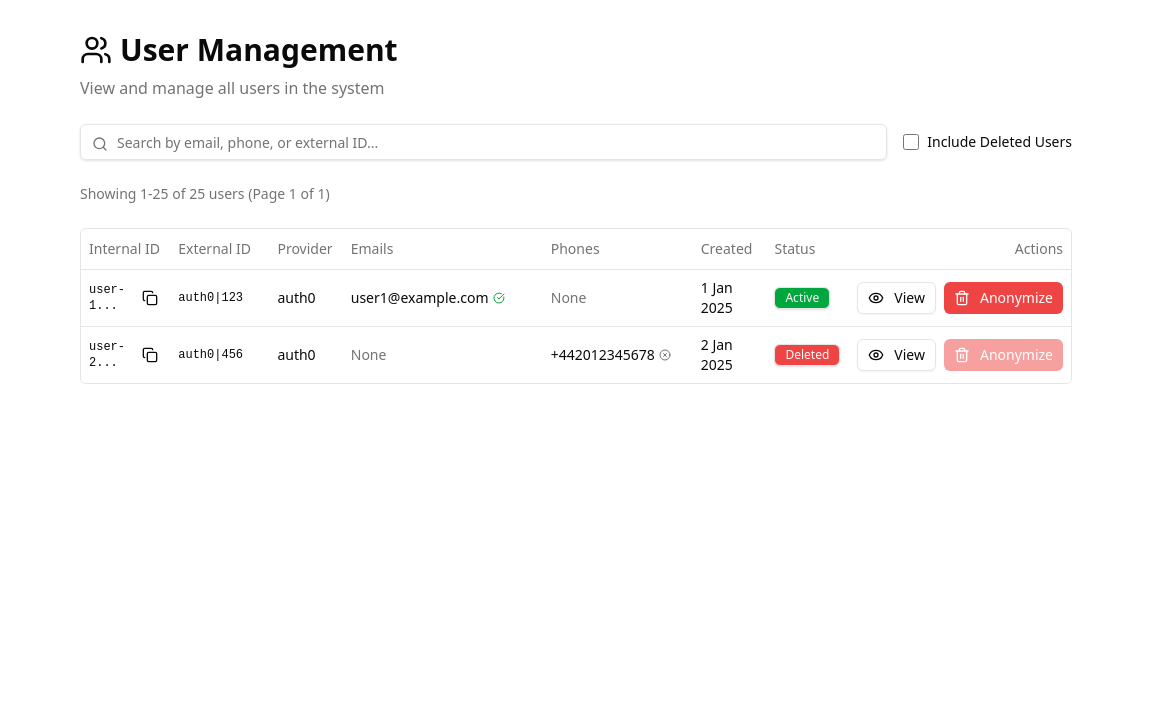
it: AdminUsers › user details dialog › should close user details dialog when close button clicked
The image size is (1152, 720).
// Open dialog
Step 1. Click the button "View" in the row of "user-1..." → {"x": 897, "y": 298}, box left=857, top=282, right=936, bottom=314
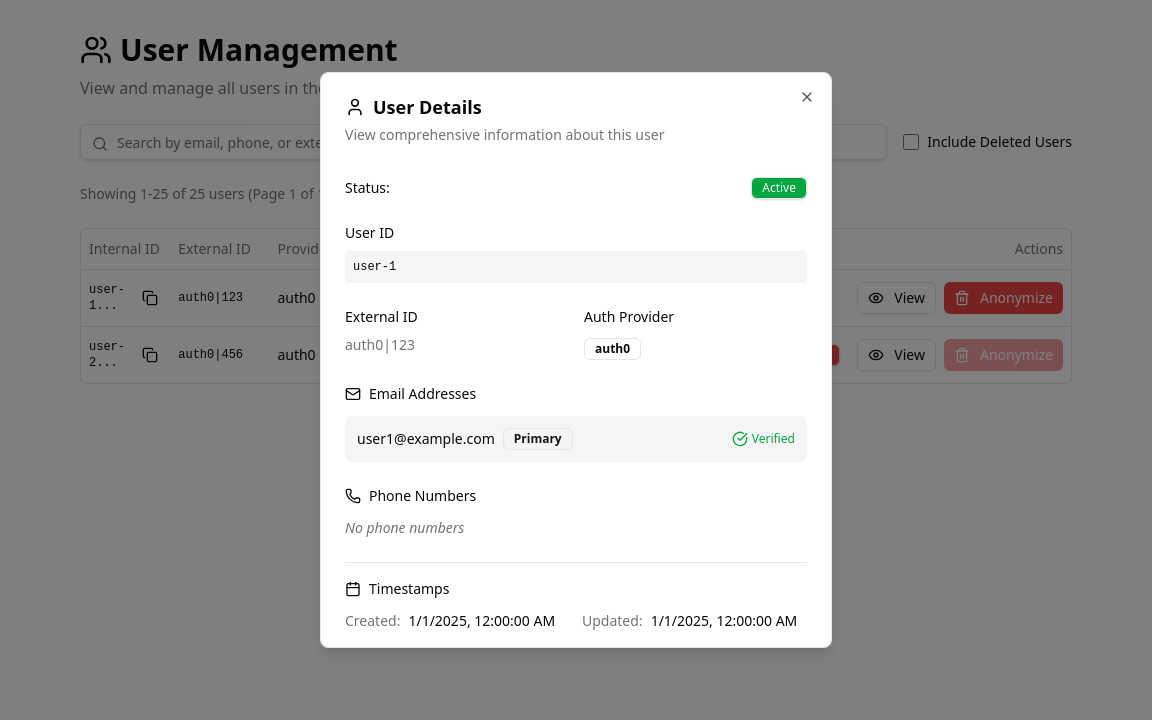
Now the heading "User Details" is shown, box left=345, top=95, right=482, bottom=119
// Close dialog - get all close buttons and use the last one (footer button)
Step 2. Click the button named "close" → {"x": 807, "y": 97}, box left=799, top=89, right=815, bottom=105
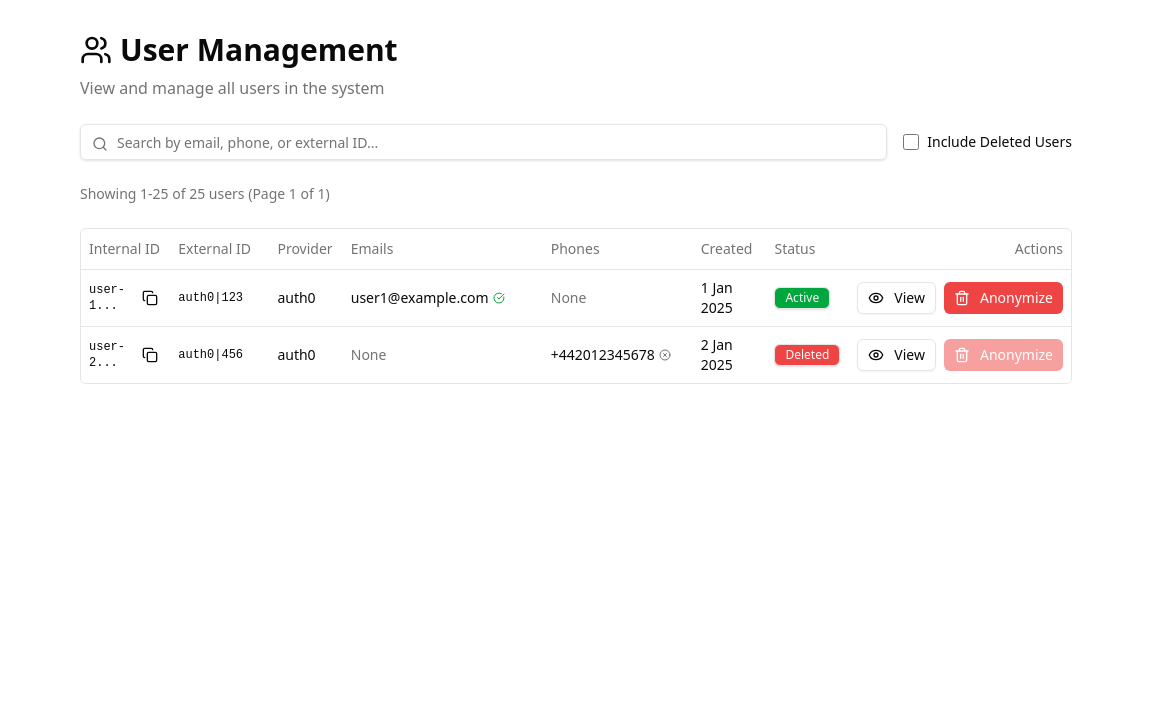
Now the heading "User Details" is gone
